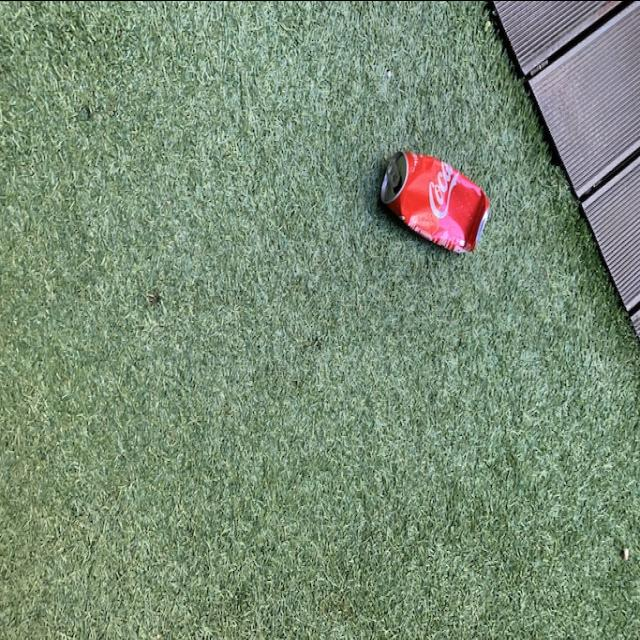Aluminum Can: (374, 142, 491, 270)
